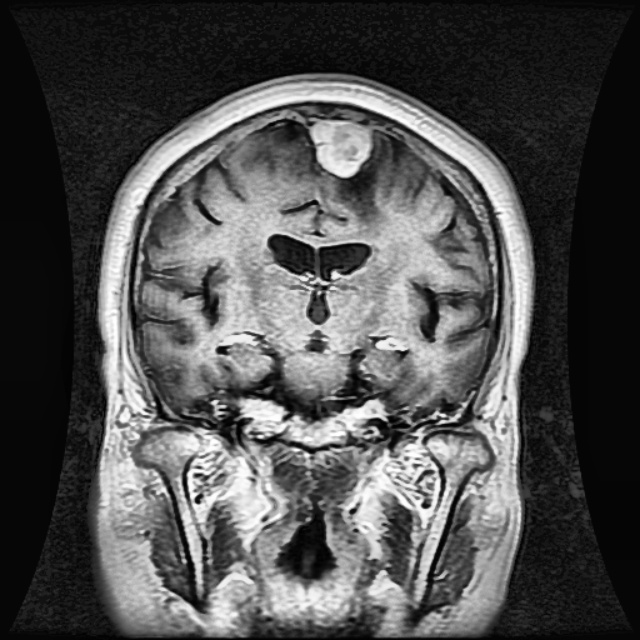Glioma: (310, 119, 370, 177)
